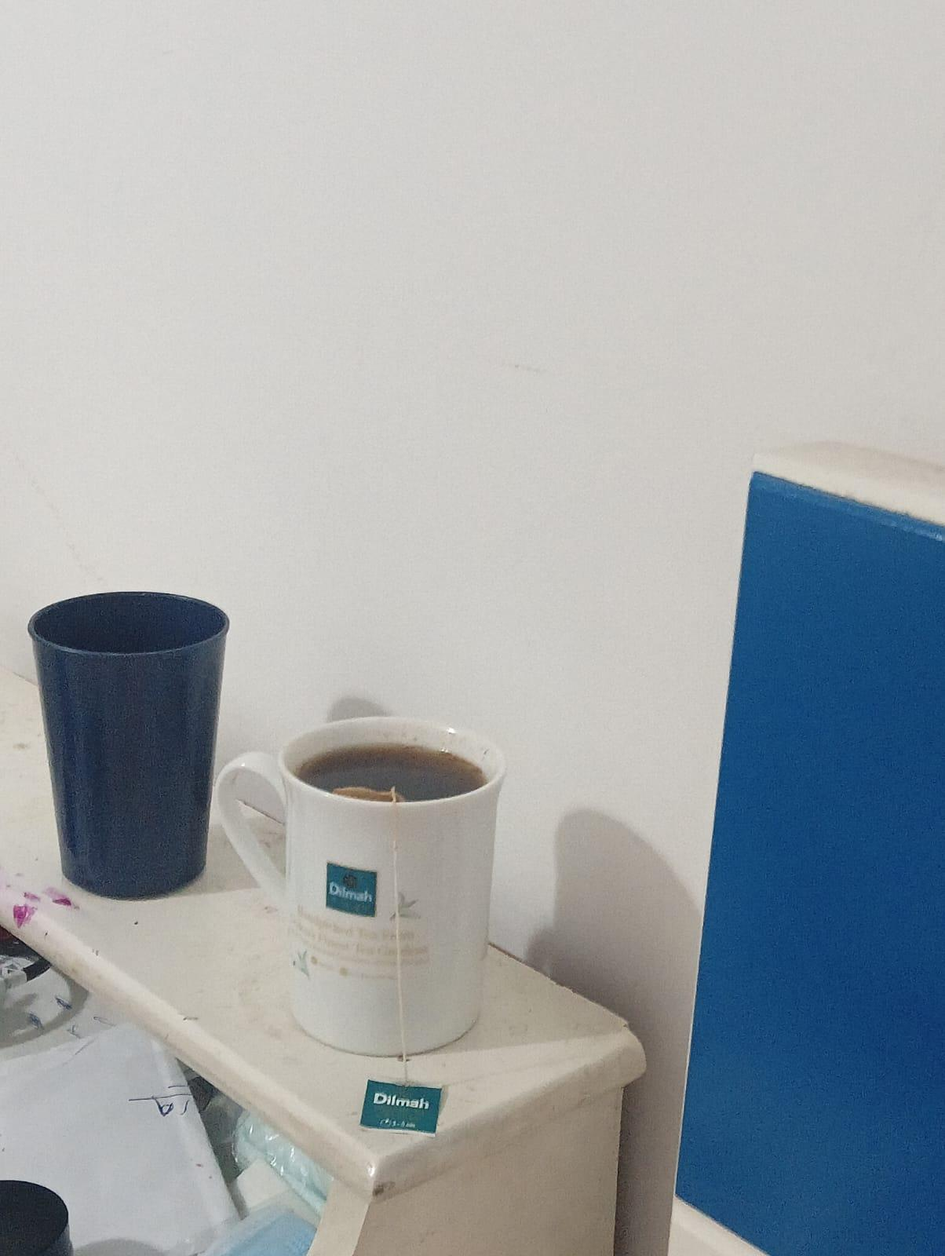cup: (216, 717, 504, 1055), (29, 592, 228, 897), (0, 1180, 72, 1255)
